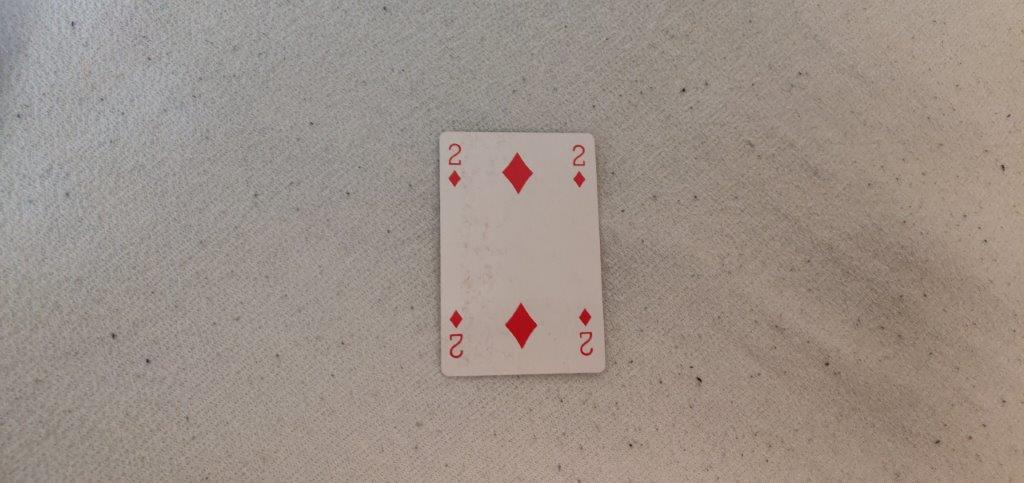2D: (444, 137, 466, 190), (568, 143, 589, 193)
